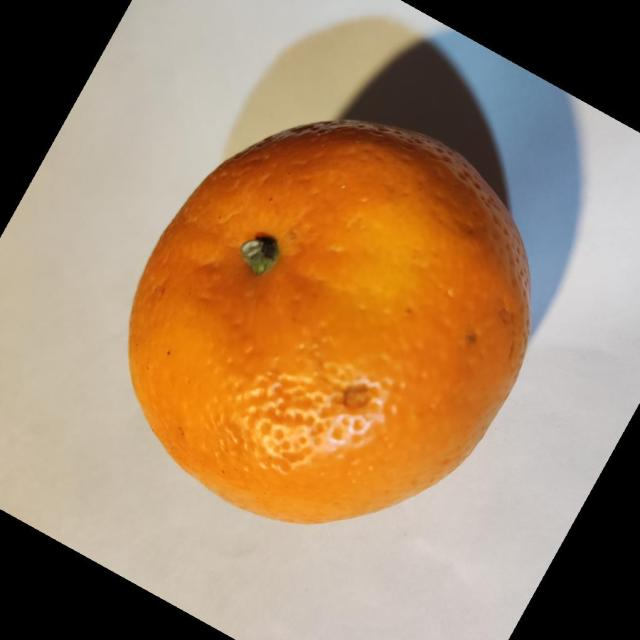fresh orange: (126, 118, 532, 526)
